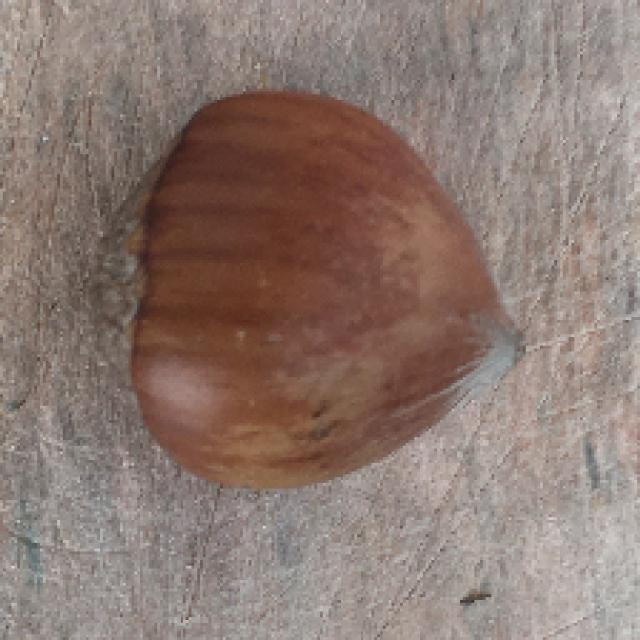DamagedHazelnut: (88, 84, 529, 497)
